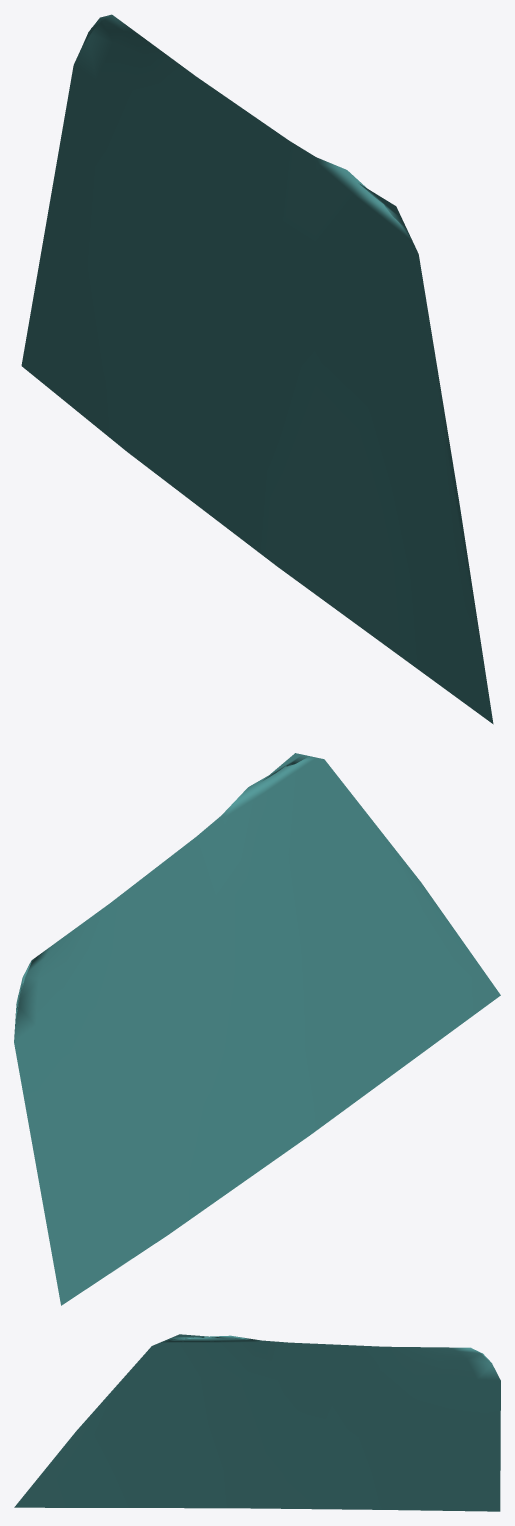
The model's file is Classic_2_Glass_FR_Tesselated.fbx.
3 views of the same model, one above another, from view 1: azimuth 30°, elevation 25°; view 2: azimuth 150°, elevation 25°; view 3: azimuth 270°, elevation 25° (orthographic). The views are drawn at different scales.
Parts seen in each view (by area): view 1: Classic_2_Glass_FR_Tesselated; view 2: Classic_2_Glass_FR_Tesselated; view 3: Classic_2_Glass_FR_Tesselated.
Part boxes in pixels (x1,y1,x2,y2): Classic_2_Glass_FR_Tesselated: (21,14,493,724); Classic_2_Glass_FR_Tesselated: (14,753,500,1305); Classic_2_Glass_FR_Tesselated: (14,1334,500,1511).
Size of the model in its own units: 16.94 by 80.85 by 187.
